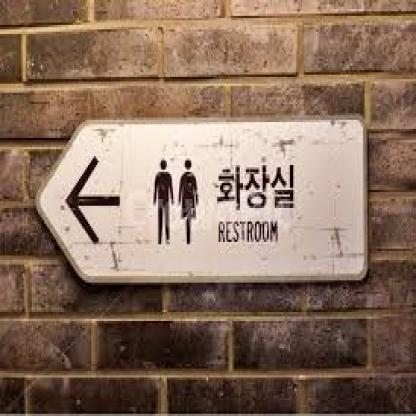toilet: (151, 152, 202, 249)
